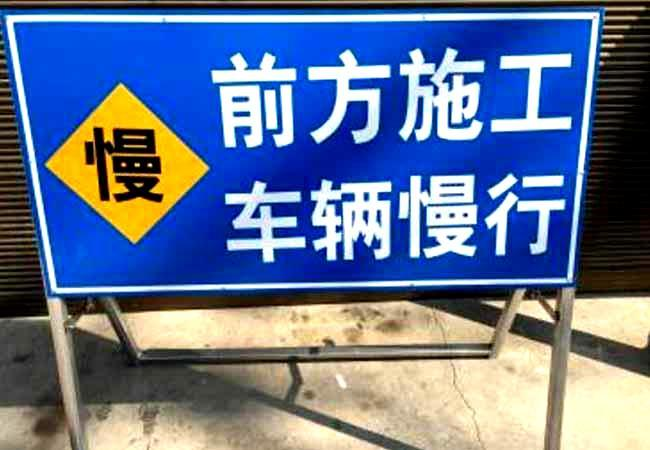sign: (5, 10, 598, 285)
